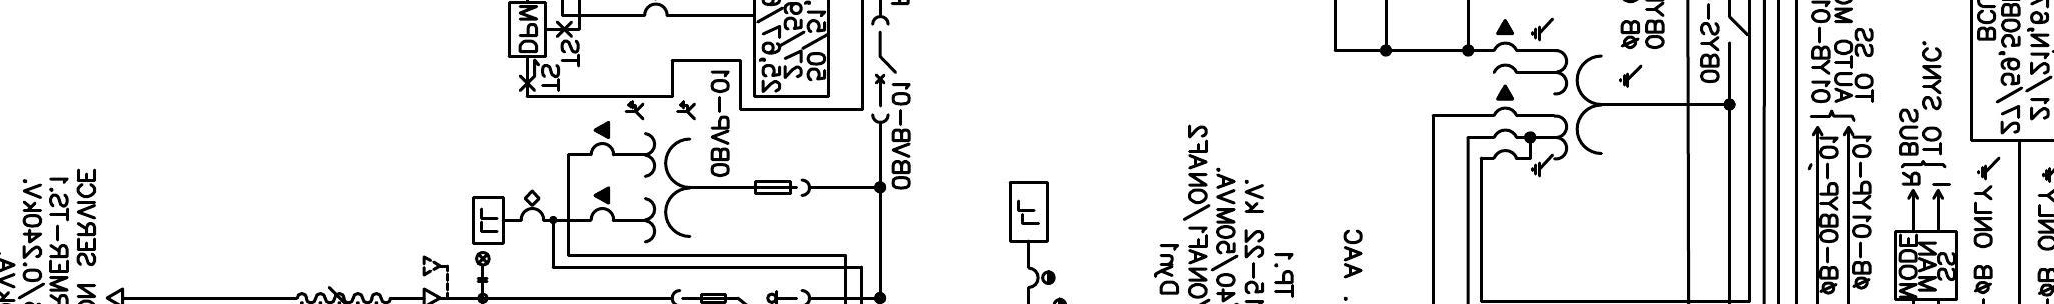115_ds: (1727, 16, 1748, 46)
115_vt_1p: (1492, 17, 1644, 179)
22_breaker: (870, 15, 898, 124)
22_ll: (475, 250, 491, 284)
22_vt_3p: (589, 99, 812, 244)
DPM: (507, 0, 548, 59)
LL: (1008, 180, 1050, 244), (471, 195, 506, 246)
ss_man_mode: (1893, 229, 1959, 302)
